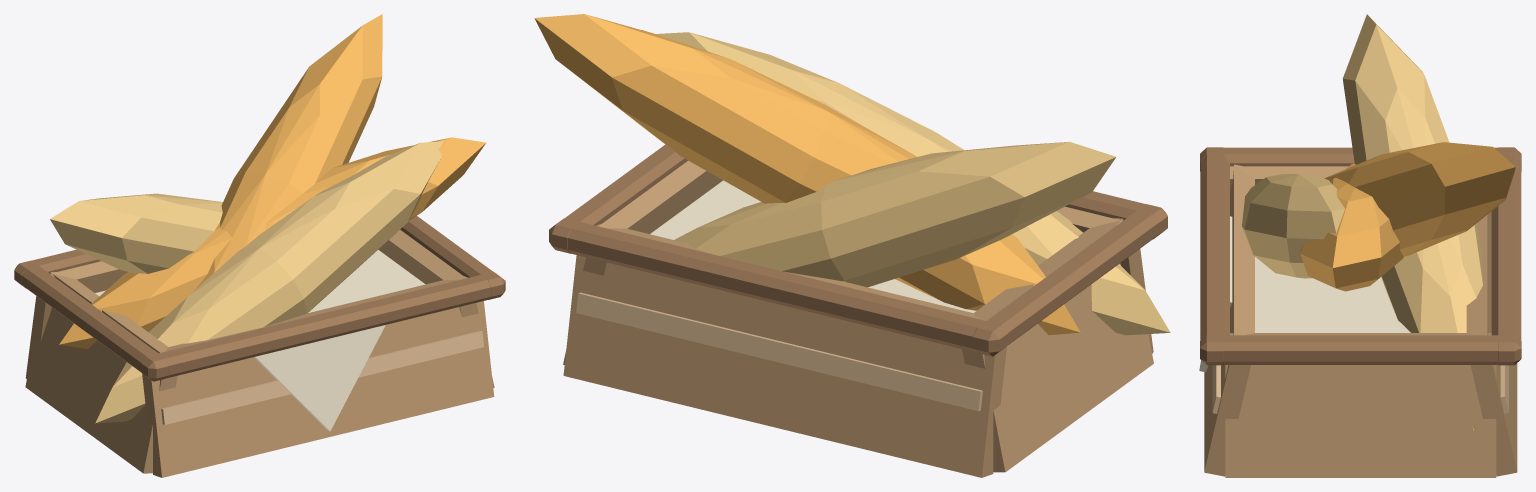
Rendered from prop_bread_basket_01.glb.
The picture shows the model from 3 angles, left to right: view 1: azimuth 30°, elevation 25°; view 2: azimuth 150°, elevation 25°; view 3: azimuth 270°, elevation 25°; orthographic projection. The views are drawn at different scales.
Visible parts, largest first — view 1: prop_bread_basket_01_body; view 2: prop_bread_basket_01_body; view 3: prop_bread_basket_01_body.
Part boxes in pixels (left/top/right/bottom): prop_bread_basket_01_body: left=14, top=14, right=505, bottom=477; prop_bread_basket_01_body: left=534, top=14, right=1170, bottom=477; prop_bread_basket_01_body: left=1199, top=14, right=1521, bottom=477.
Bounding box in the file's own units: 0.6604 × 0.4297 × 0.3807.
